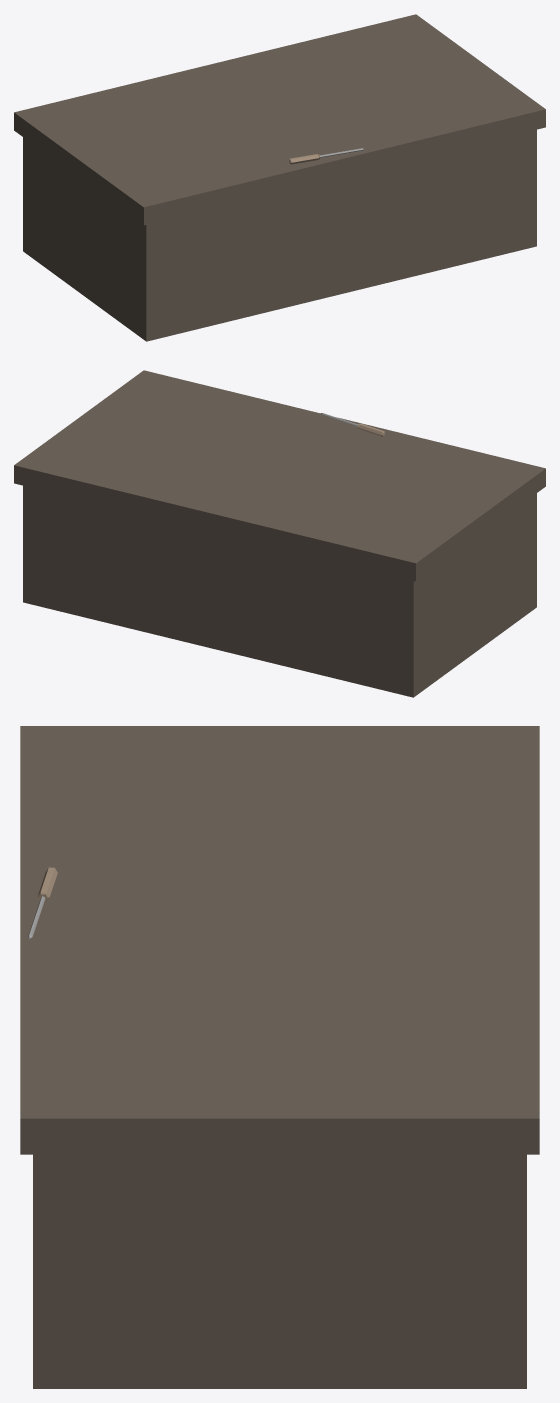
The model's file is Crafting_Table.fbx.
3 renders of one model, top to bottom at view 1: azimuth 30°, elevation 25°; view 2: azimuth 150°, elevation 25°; view 3: azimuth 270°, elevation 25°, orthographic. The views are drawn at different scales.
Parts seen in each view (by area): view 1: Crafting_Bench; view 2: Crafting_Bench; view 3: Crafting_Bench.
Part boxes in pixels (x1,y1,x2,y2): Crafting_Bench: (14, 14, 545, 341); Crafting_Bench: (14, 370, 545, 697); Crafting_Bench: (20, 726, 539, 1388).
Size of the model in its own units: 226 by 76.69 by 126.
